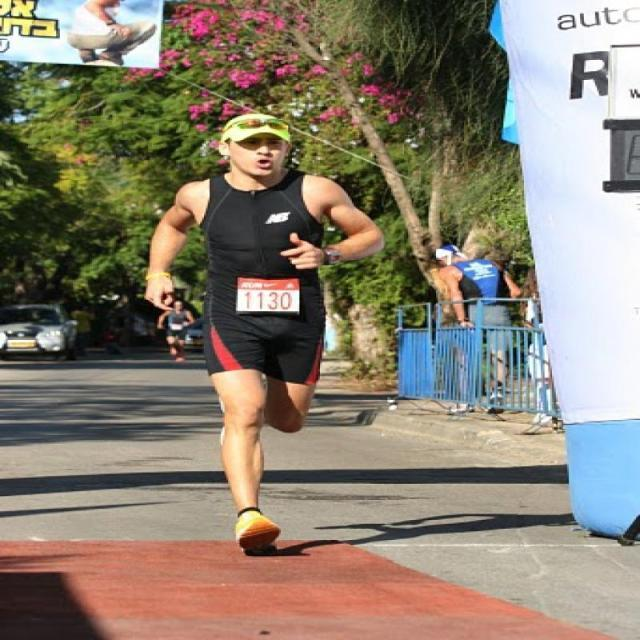dorsal: (232, 277, 306, 315)
